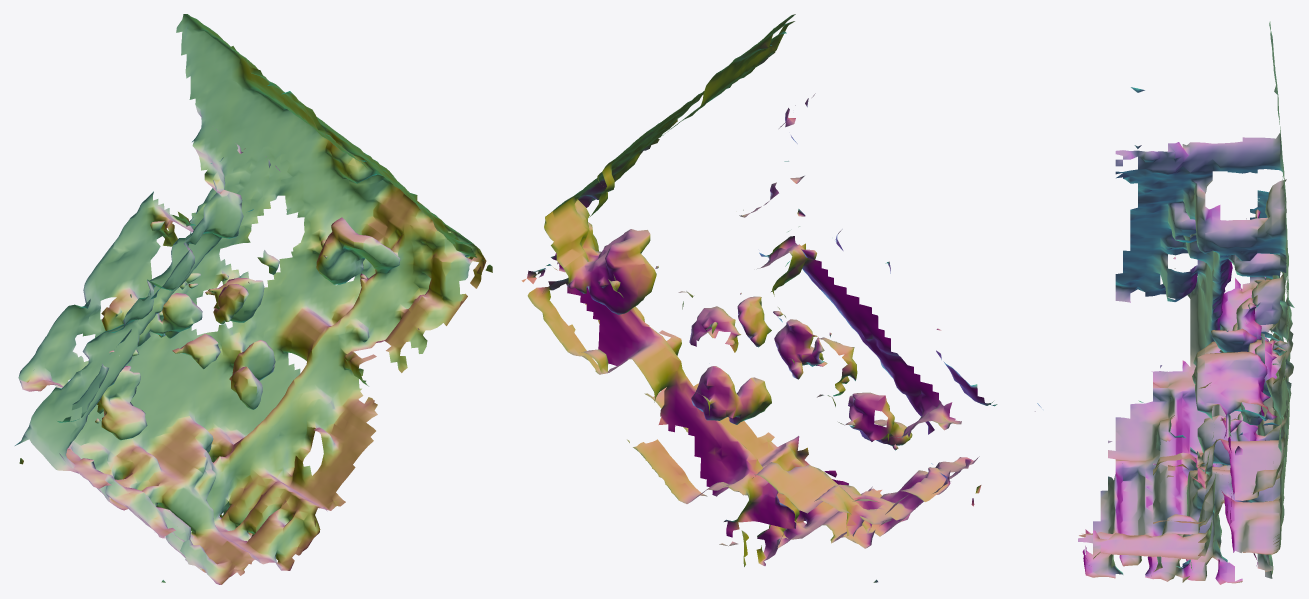
File: voxblox.glb
The picture shows the model from 3 angles, left to right: view 1: azimuth 30°, elevation 25°; view 2: azimuth 150°, elevation 25°; view 3: azimuth 270°, elevation 25°; orthographic projection. The views are drawn at different scales.
Size of the model in its own units: 6.18 by 6.8 by 2.32.
